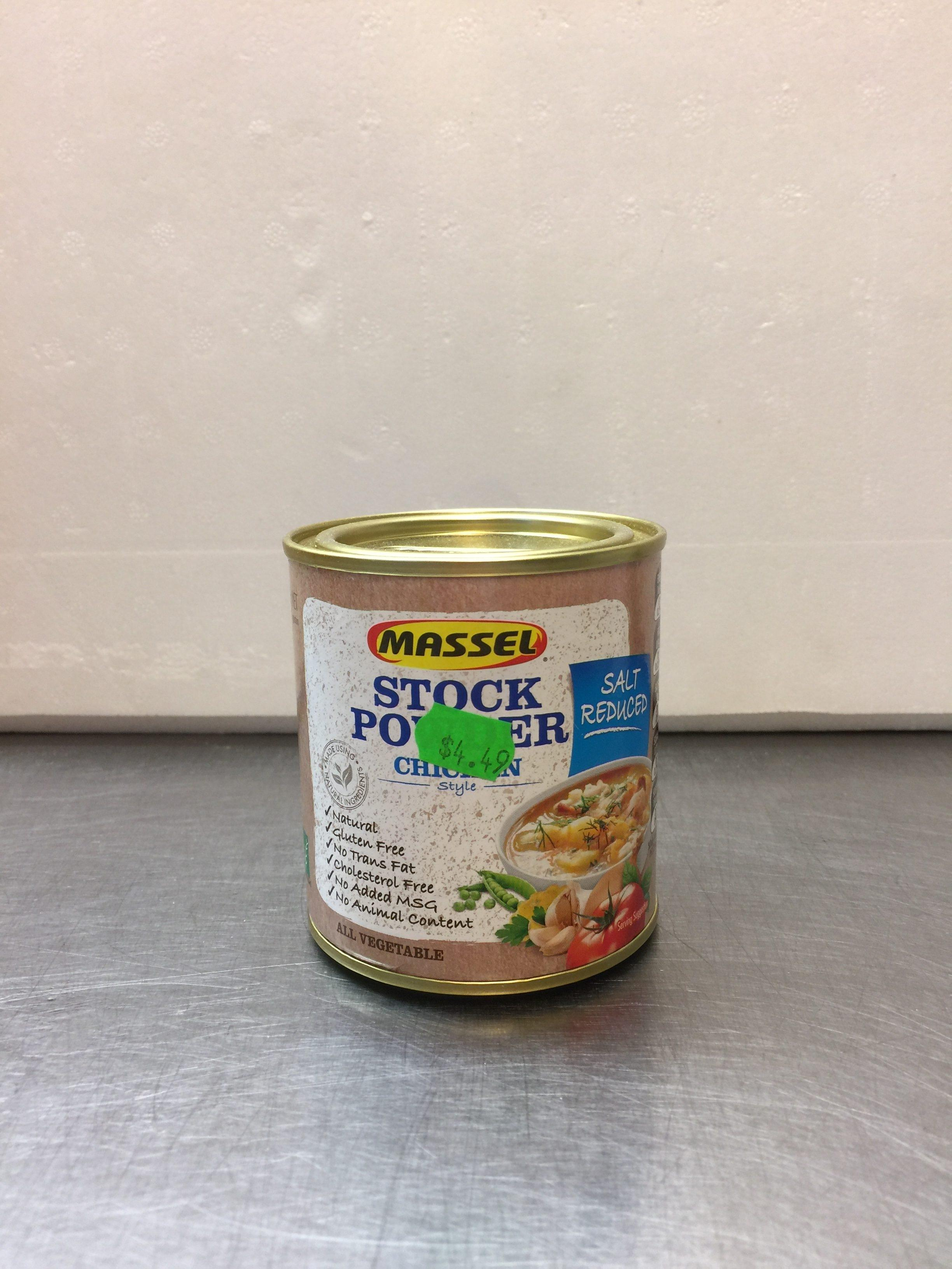metal: (283, 508, 665, 996)
